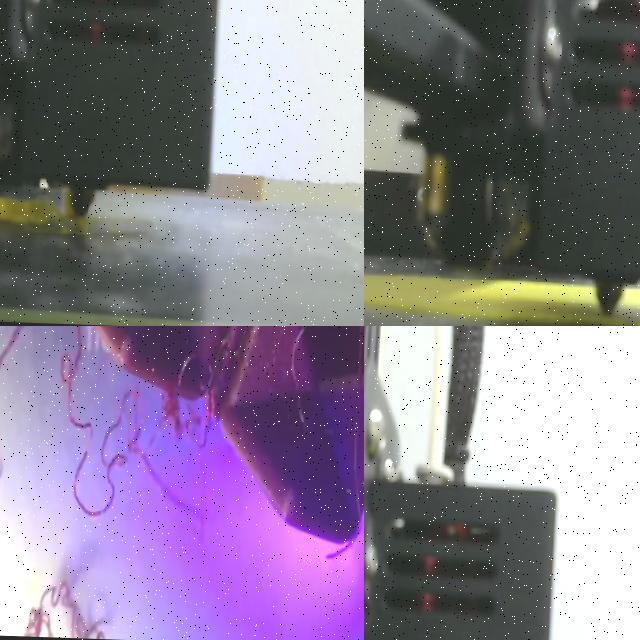spaghetti: (0, 326, 289, 539), (286, 326, 364, 557), (16, 571, 116, 639), (0, 196, 87, 234)
